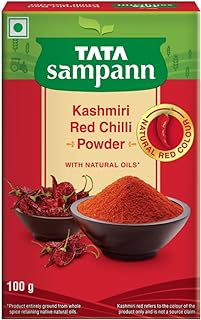Chilli Powder: (2, 1, 201, 320)
